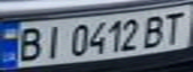0: (66, 20, 90, 57)
1: (103, 16, 127, 54)
2: (118, 16, 145, 52)
4: (87, 18, 109, 55)
B: (9, 24, 48, 62), (139, 12, 172, 48)
I: (36, 22, 66, 60)
T: (157, 9, 190, 45)
